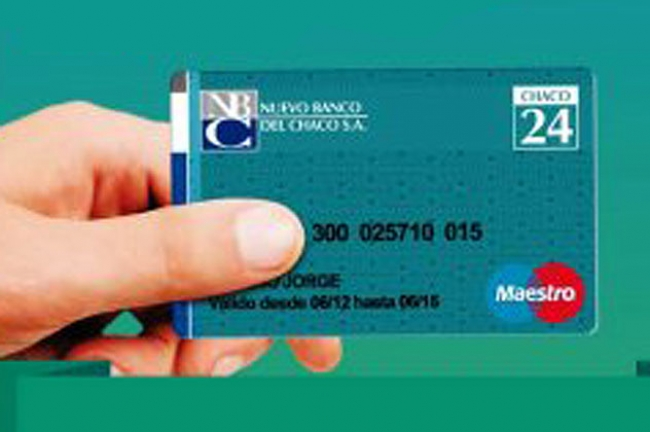tarjeta: (168, 67, 596, 335)
